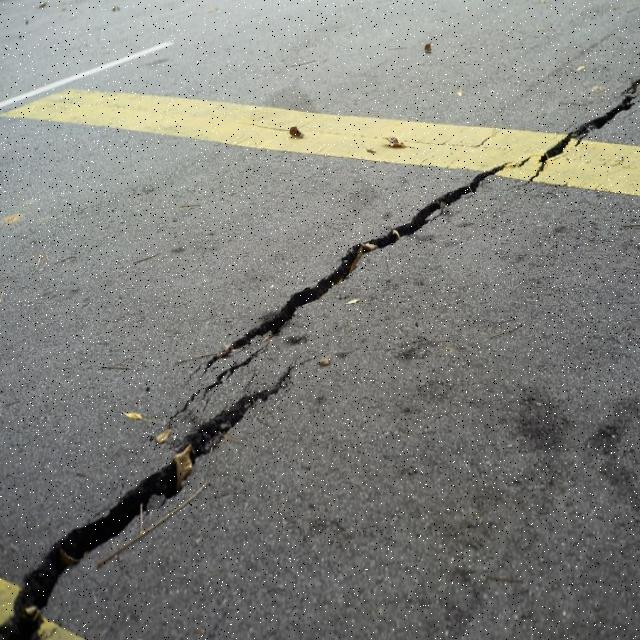Crack: (0, 370, 285, 640), (201, 157, 529, 374), (527, 98, 637, 182), (202, 349, 257, 392), (165, 390, 198, 428)
